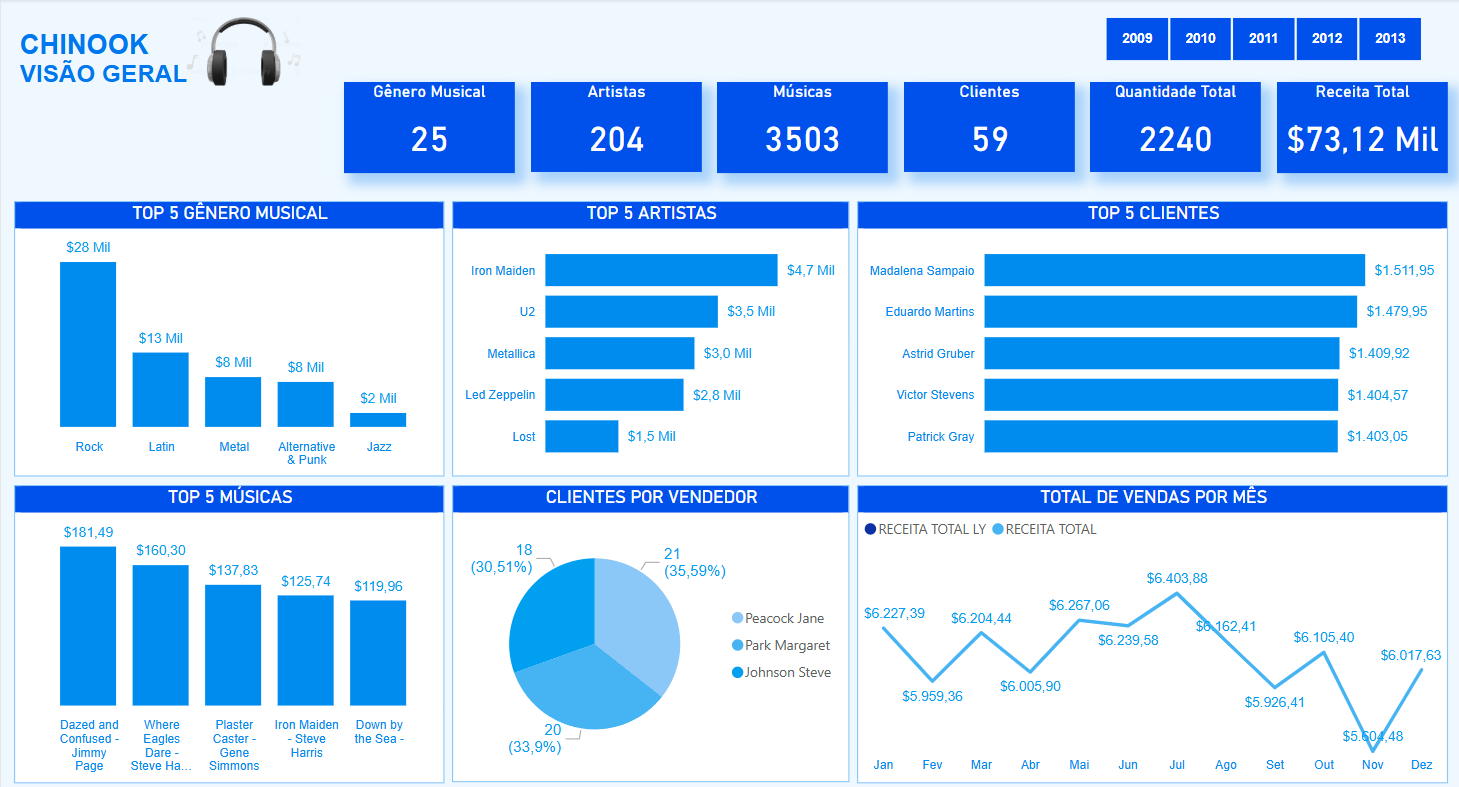

The dashboard page shown, as its layout file describes it:
{"tool":"powerbi","page":{"name":"Chinook Database OverView","canvas":[1280,720],"ordinal":0},"visuals":[{"type":"card","title":"Clientes","fields":{"Values":["#Medidas.TOTAL DE CLIENTES"]},"box":[650.5,71.1,189,89],"z":0},{"type":"card","title":"Artistas","fields":{"Values":["#Medidas.TOTAL DE ARTISTAS"]},"box":[228.3,72,189.7,89.6],"z":1000},{"type":"card","title":"Músicas","fields":{"Values":["#Medidas.TOTAL DE MÚSICAS"]},"box":[439.8,71.1,189,89],"z":2000},{"type":"card","title":"Receita Total","fields":{"Values":["#Medidas.RECEITA TOTAL"]},"box":[1072.1,72.9,188.8,88.7],"z":3000},{"type":"slicer","fields":{"Values":["dim_calendario.Ano"]},"box":[916.7,13.2,328.4,41.3],"z":4000},{"type":"card","title":"Gênero Musical","fields":{"Values":["#Medidas.TOTAL DE GÊNEROS MUSICAIS"]},"box":[17.6,72.9,189,89],"z":5000},{"type":"card","title":"Quantidade","fields":{"Values":["#Medidas.QUANTIDADE"]},"box":[861.3,71.4,189,89],"z":6000},{"type":"textbox","box":[417.1,7,472.4,54.4],"z":7000},{"type":"clusteredColumnChart","title":"TOP 5 Gênero Musical","fields":{"Category":["Genre.Name"],"Y":["#Medidas.RECEITA TOTAL"]},"box":[17.6,177.4,382.8,242.3],"z":8000},{"type":"columnChart","title":"Clientes por Vendedor","fields":{"Category":["Employee.VENDEDOR"],"Y":["#Medidas.TOTAL DE CLIENTES"]},"box":[375.2,434.2,313,262],"z":9000},{"type":"clusteredColumnChart","title":"TOP 5 Músicas","fields":{"Category":["Track.Name"],"Y":["#Medidas.RECEITA TOTAL"]},"box":[17.6,433.8,346,261.7],"z":10000},{"type":"clusteredBarChart","title":"TOP 5 Clientes","fields":{"Category":["Customer.CLIENTE"],"Y":["#Medidas.RECEITA TOTAL"]},"box":[784.1,177.4,476.8,242.3],"z":11000},{"type":"clusteredColumnChart","title":"Total de Vendas por Mês","fields":{"Category":["dim_calendario.Mês abrev"],"Y":["#Medidas.RECEITA TOTAL"]},"box":[699.8,433.8,561.1,261.7],"z":12000},{"type":"clusteredBarChart","title":"TOP 5 Artistas","fields":{"Category":["Artist.Name"],"Y":["#Medidas.RECEITA TOTAL"]},"box":[417.9,177.6,348.7,242.5],"z":13000}]}

Visuals, with their boxes on the page's 1280x720 design canvas (x1, y1, x2, y2). These are canvas units, not pixel positions in the 1459x787 screenshot, which may show the page scaled, cropped or inside an application window:
"Clientes" card: box(650, 71, 840, 160)
"Artistas" card: box(228, 72, 418, 162)
"Músicas" card: box(440, 71, 629, 160)
"Receita Total" card: box(1072, 73, 1261, 162)
slicer - dim_calendario.Ano: box(917, 13, 1245, 54)
"Gênero Musical" card: box(18, 73, 207, 162)
"Quantidade" card: box(861, 71, 1050, 160)
textbox: box(417, 7, 890, 61)
"TOP 5 Gênero Musical" clusteredColumnChart: box(18, 177, 400, 420)
"Clientes por Vendedor" columnChart: box(375, 434, 688, 696)
"TOP 5 Músicas" clusteredColumnChart: box(18, 434, 364, 696)
"TOP 5 Clientes" clusteredBarChart: box(784, 177, 1261, 420)
"Total de Vendas por Mês" clusteredColumnChart: box(700, 434, 1261, 696)
"TOP 5 Artistas" clusteredBarChart: box(418, 178, 767, 420)
